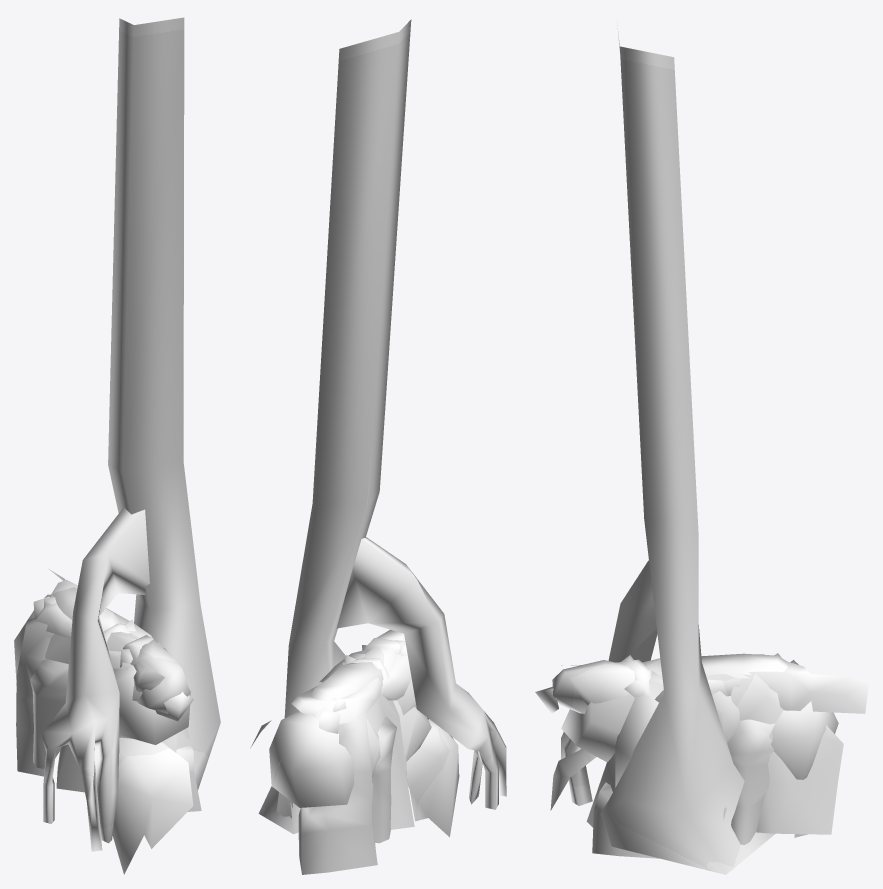
File: narrow_jump_or_slide_a.glb
3 renders of one model, left to right at view 1: azimuth 30°, elevation 25°; view 2: azimuth 150°, elevation 25°; view 3: azimuth 270°, elevation 25°, orthographic. The views are drawn at different scales.
Parts seen in each view (by area): view 1: TREES (×2); view 2: TREES (×2); view 3: TREES (×2).
Boxes of the visible parts, x1=… form: TREES (×2): x1=14, y1=17, x2=220, y2=874; TREES (×2): x1=250, y1=19, x2=506, y2=874; TREES (×2): x1=535, y1=22, x2=868, y2=874.
Size of what is drawn, in the model's own units: 6.09 by 25.6 by 9.06.
Materials: 1 (1 with a texture image).
